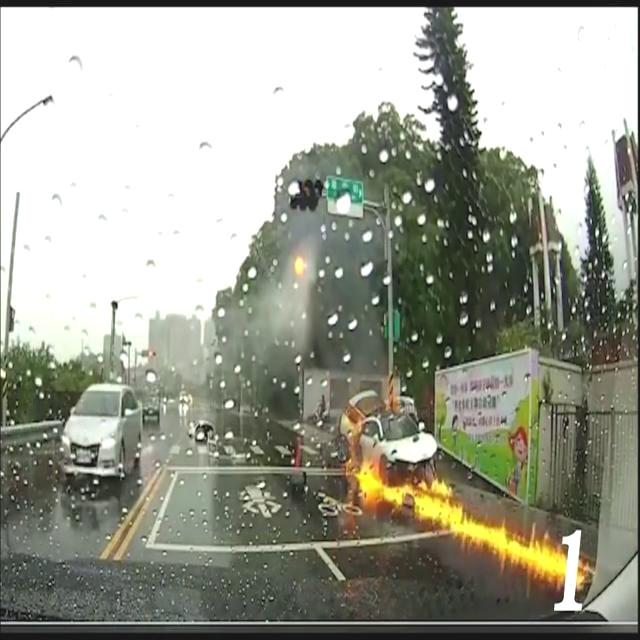accident: (309, 389, 597, 591)
non-accident: (54, 382, 162, 488)
